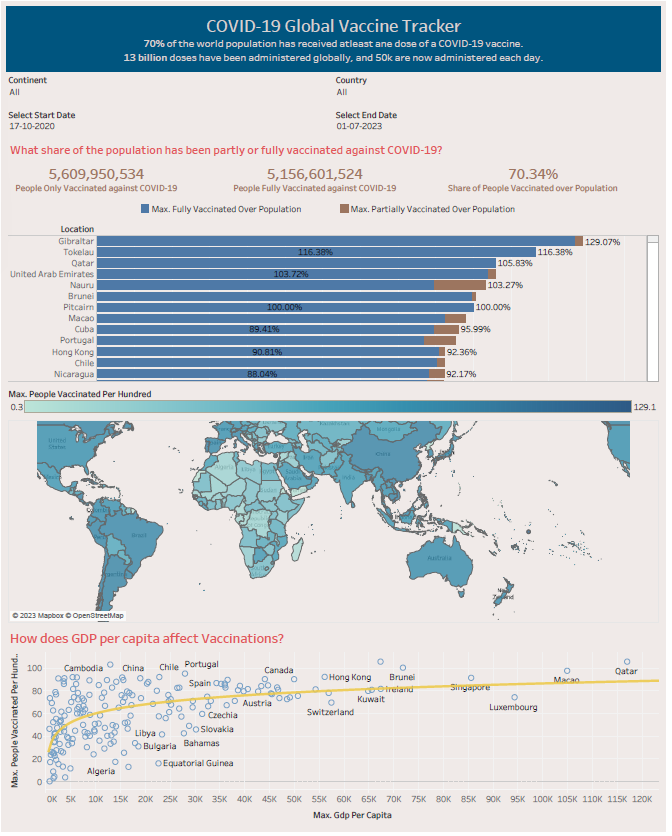

What the dashboard file says about the page in this screenshot:
{"tool":"tableau","page":{"name":"Global Vaccine Tracker","canvas":[1200,1500],"ordinal":0},"visuals":[{"type":"text","box":[9,9,1182,116]},{"type":"filter","title":"KPI 1 - People Partially Vaccinated","param":"[federated.0dox85k09b3lwj141979l1escl5t].[none:continent:nk]","box":[8,126,592,63]},{"type":"filter","title":"KPI 1 - People Partially Vaccinated","param":"[federated.0dox85k09b3lwj141979l1escl5t].[none:Location (copy 2)_122976422353781","box":[600,126,592,63]},{"type":"parameter","param":"[Parameters].[Parameter 1]","box":[8,189,592,56]},{"type":"parameter","param":"[Parameters].[Select Start Date (copy)_615022871932362755]","box":[600,189,592,56]},{"type":"text","box":[8,245,1184,44]},{"type":"worksheet","title":"KPI 1 - People Partially Vaccinated","mark":"Automatic","box":[8,289,394.6,71]},{"type":"worksheet","title":"KPI 2 - People Fully Vaccinated","mark":"Automatic","box":[402.6,289,394.7,71]},{"type":"worksheet","title":"KPI 3 - Share of People Vaccinated over Population","mark":"Automatic","box":[797.3,289,394.7,71]},{"type":"blank","box":[8,360,237,38]},{"type":"legend","title":"Vaccinated vs Fully Vaccinated per Location","param":"[federated.0dox85k09b3lwj141979l1escl5t].[:Measure Names]","box":[245,360,947,38]},{"type":"worksheet","title":"Vaccinated vs Fully Vaccinated per Location","mark":"Bar","rows":["location"],"cols":["Calculation_615022871920889856","Share of People Partially Vaccinated Over Population (copy)_"],"box":[8,398,1184,293]},{"type":"legend","title":"Vaaccination per Hundred - Map","param":"[federated.0dox85k09b3lwj141979l1escl5t].[max:people_vaccinated_per_hundred:qk]","box":[8,691,1184,63]},{"type":"worksheet","title":"Vaaccination per Hundred - Map","mark":"Automatic","box":[8,754,1184,373]},{"type":"text","box":[8,1127,1184,46]},{"type":"worksheet","title":"Vaccinated over GDP","mark":"Automatic","rows":["people_vaccinated_per_hundred"],"cols":["gdp_per_capita"],"box":[8,1173,1184,319]}]}

Visuals, with their boxes in screenshot pixels (x1, y1, x2, y2), scaled from the page's 1200x1500 canvas onto the 672x836 screenshot:
text: bbox(5, 5, 667, 70)
"KPI 1 - People Partially Vaccinated" filter: bbox(4, 70, 336, 105)
"KPI 1 - People Partially Vaccinated" filter: bbox(336, 70, 668, 105)
parameter: bbox(4, 105, 336, 137)
parameter: bbox(336, 105, 668, 137)
text: bbox(4, 137, 668, 161)
"KPI 1 - People Partially Vaccinated" worksheet: bbox(4, 161, 225, 201)
"KPI 2 - People Fully Vaccinated" worksheet: bbox(225, 161, 446, 201)
"KPI 3 - Share of People Vaccinated over Population" worksheet: bbox(446, 161, 668, 201)
blank: bbox(4, 201, 137, 222)
"Vaccinated vs Fully Vaccinated per Location" legend: bbox(137, 201, 668, 222)
"Vaccinated vs Fully Vaccinated per Location" worksheet (Bar marks): bbox(4, 222, 668, 385)
"Vaaccination per Hundred - Map" legend: bbox(4, 385, 668, 420)
"Vaaccination per Hundred - Map" worksheet: bbox(4, 420, 668, 628)
text: bbox(4, 628, 668, 654)
"Vaccinated over GDP" worksheet: bbox(4, 654, 668, 832)
